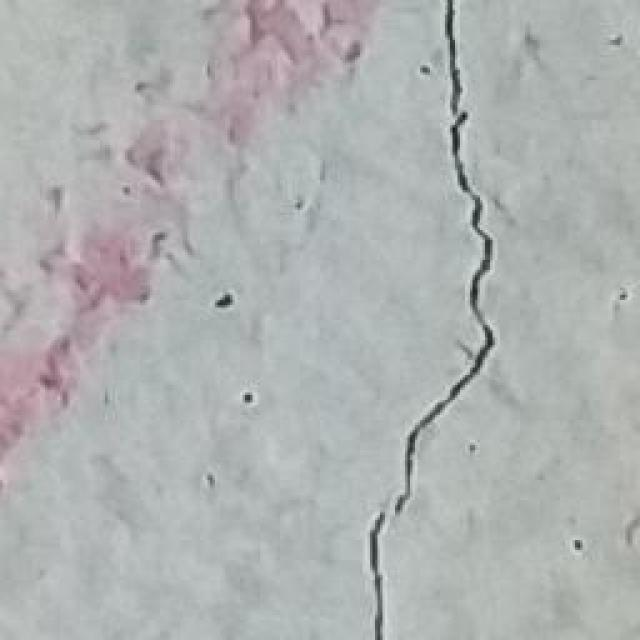Longitudinal: (334, 5, 508, 640)
